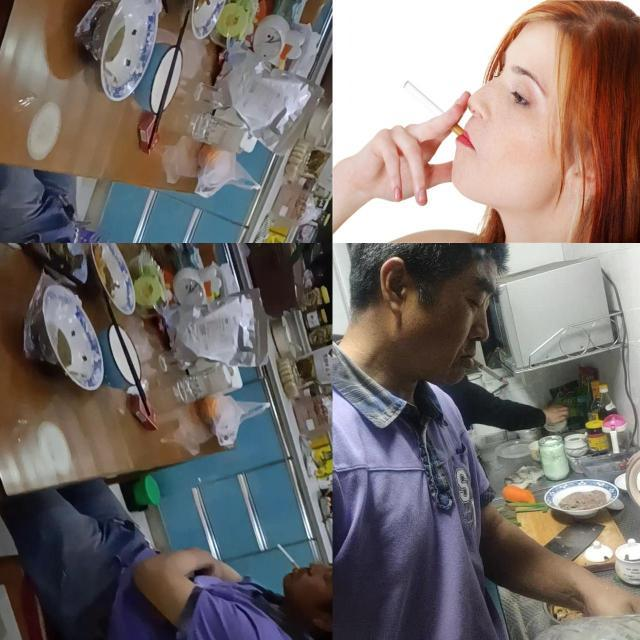smoking: (402, 80, 466, 138), (471, 358, 508, 384), (278, 544, 300, 570)
